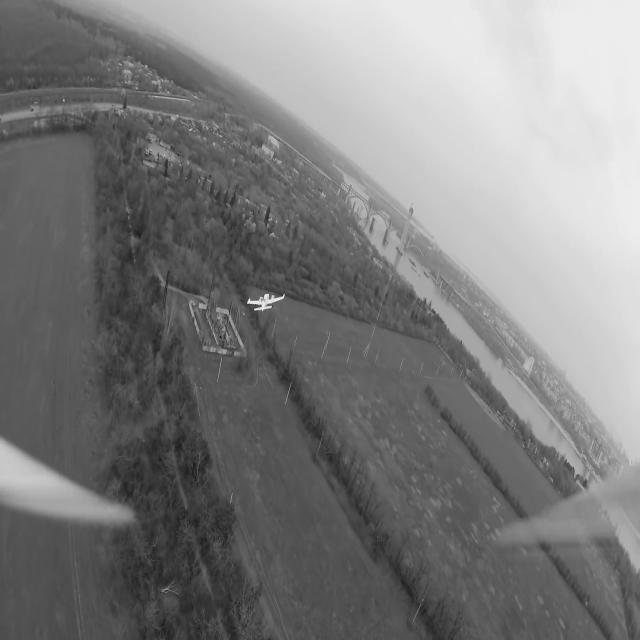iha: (239, 290, 280, 311)
